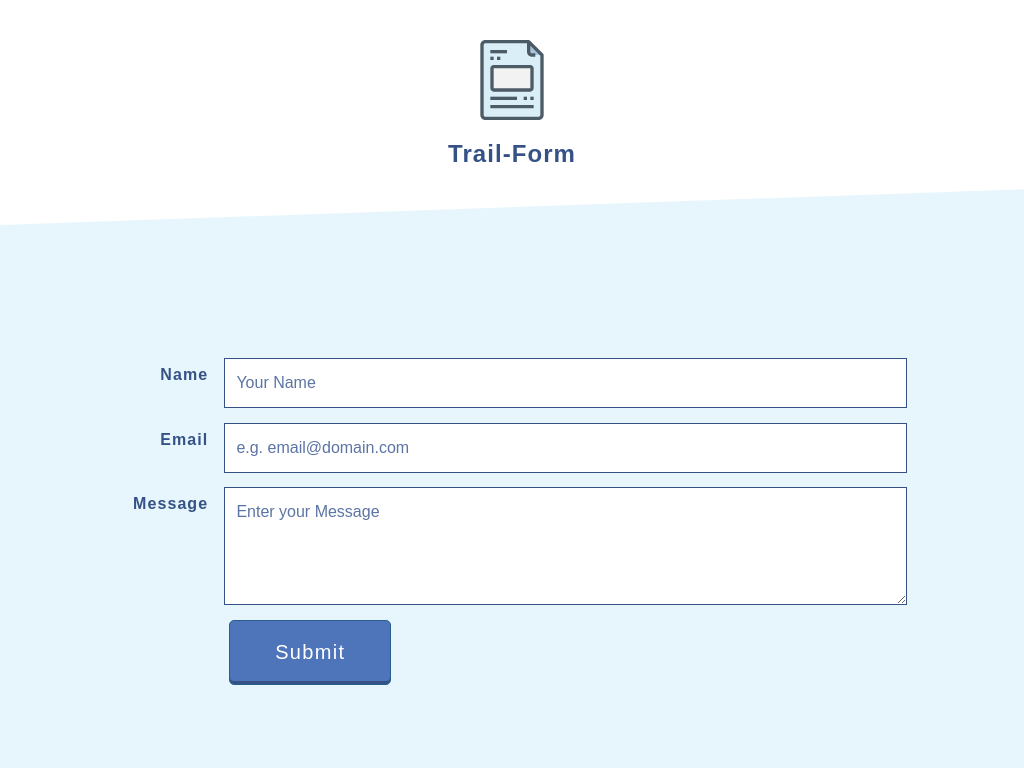
Test: Form Input › Doesn't Submit with out Name
In the field with placeholder "e.g. email@domain.com": coordinates (566, 448) [224,423,907,473], type "John.Doe@example.com"
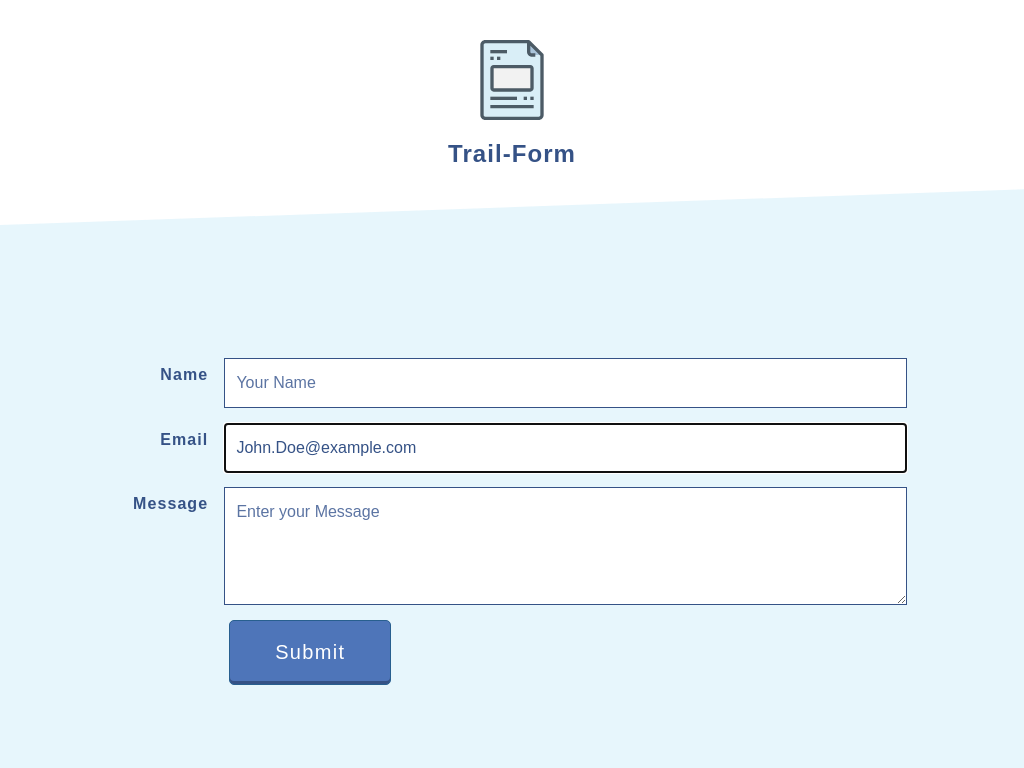
In the text box with placeholder "Enter your Message": coordinates (566, 546) [224,487,907,605], type "Hello from John Doe!"
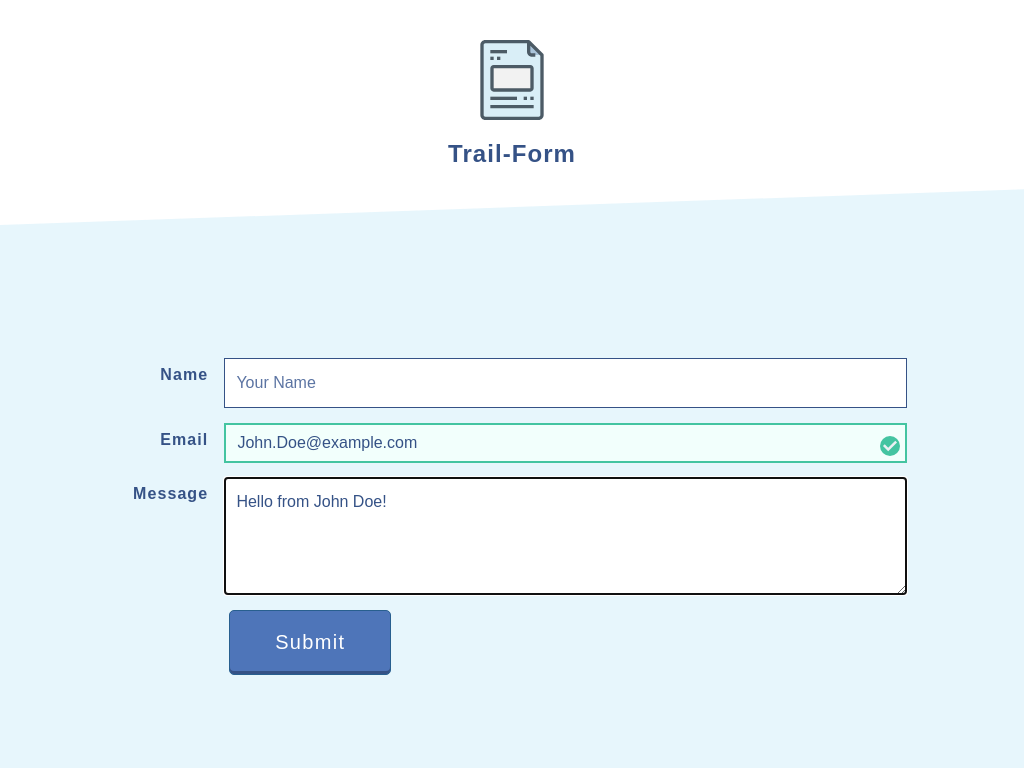
Click the button "Submit": coordinates (310, 643) [229,610,391,675]
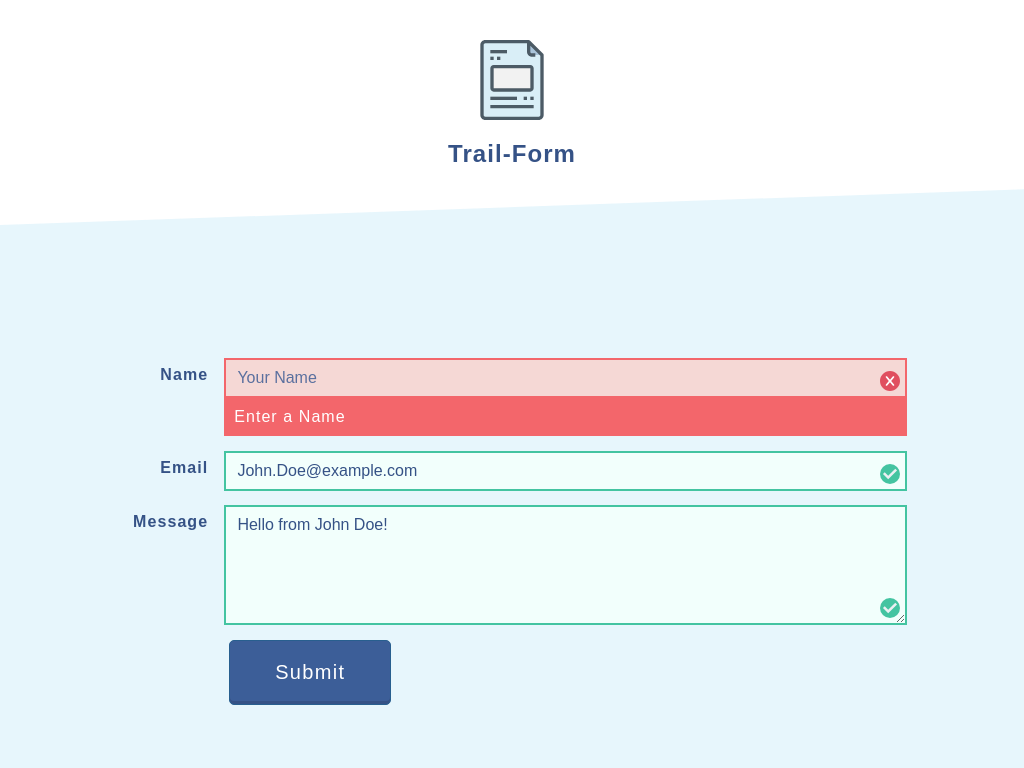
Expected: the number of elements with class "invalid" is 1, [117,353,907,436]
Expected: the text with class "error-msg" reads "Enter a Name", [224,398,907,436]
